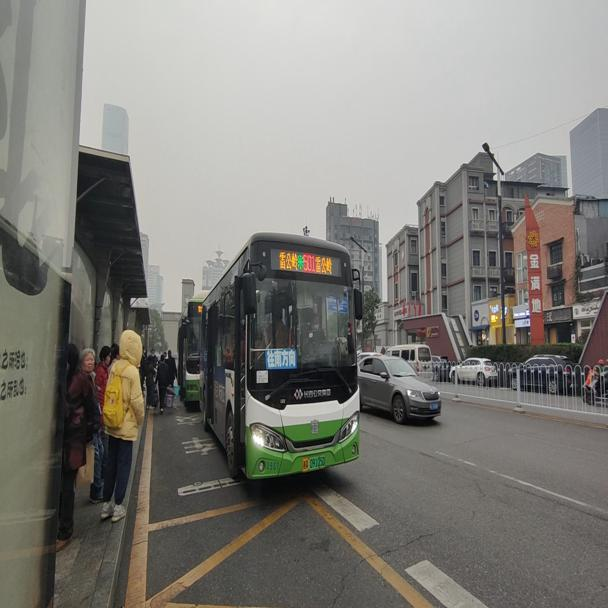bus: (202, 227, 365, 472), (176, 294, 204, 405)
screen: (301, 247, 315, 274)
